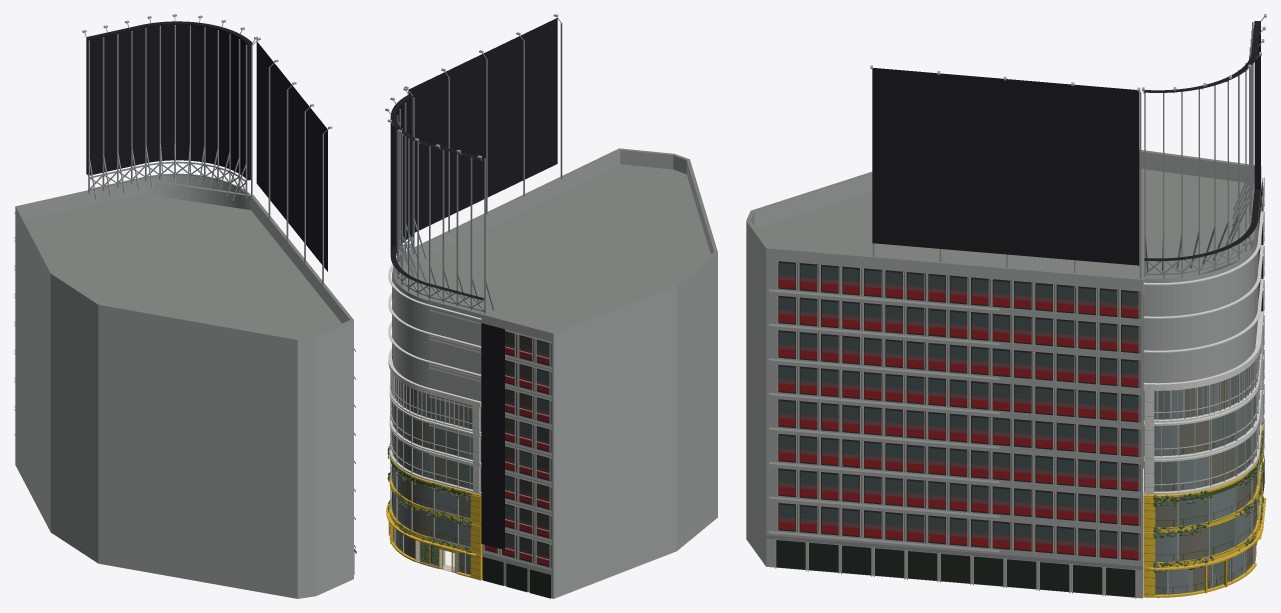
Rendered from ekimae.glb.
3 views of the same model, side by side, from view 1: azimuth 30°, elevation 25°; view 2: azimuth 150°, elevation 25°; view 3: azimuth 270°, elevation 25° (orthographic). The views are drawn at different scales.
Parts seen in each view (by area): view 1: ek_wall, ek_screen_back, ek_roof, ek_steel; view 2: ek_wall, ek_roof, ek_screen_back, ek_steel, ek_band, ek_silver, ek_reveal, ek_glass, ek_glass_warm, ek_glass_blue, ek_red_frame, ek_gold (+4 smaller); view 3: ek_wall, ek_screen_back, ek_reveal, ek_glass_blue, ek_red_frame, ek_silver, ek_roof, ek_band, ek_shop_glass, ek_steel, ek_glass_warm, ek_glass (+4 smaller).
Part boxes in pixels (bbox=[...]): ek_wall: bbox=[15, 175, 353, 598]; ek_screen_back: bbox=[86, 21, 327, 271]; ek_roof: bbox=[15, 178, 353, 339]; ek_steel: bbox=[84, 17, 356, 553]; ek_wall: bbox=[393, 150, 717, 598]; ek_roof: bbox=[409, 148, 717, 333]; ek_screen_back: bbox=[390, 18, 557, 549]; ek_steel: bbox=[388, 17, 562, 488]; ek_band: bbox=[388, 264, 552, 570]; ek_silver: bbox=[385, 14, 558, 574]; ek_reveal: bbox=[392, 267, 551, 567]; ek_glass: bbox=[392, 332, 549, 574]; ek_glass_warm: bbox=[392, 336, 549, 572]; ek_glass_blue: bbox=[392, 341, 549, 551]; ek_red_frame: bbox=[485, 343, 549, 565]; ek_gold: bbox=[386, 454, 482, 580]; ek_wall: bbox=[746, 151, 1261, 598]; ek_screen_back: bbox=[872, 21, 1262, 424]; ek_reveal: bbox=[778, 178, 1262, 560]; ek_glass_blue: bbox=[779, 183, 1262, 594]; ek_red_frame: bbox=[778, 275, 1138, 559]; ek_silver: bbox=[775, 14, 1266, 598]; ek_roof: bbox=[746, 150, 1261, 294]; ek_band: bbox=[769, 177, 1264, 552]; ek_shop_glass: bbox=[776, 456, 1264, 597]; ek_steel: bbox=[765, 17, 1263, 569]; ek_glass_warm: bbox=[1154, 193, 1261, 591]; ek_glass: bbox=[1154, 204, 1260, 594].
Size of the model in its own units: 30.11 by 50.4 by 46.46.
